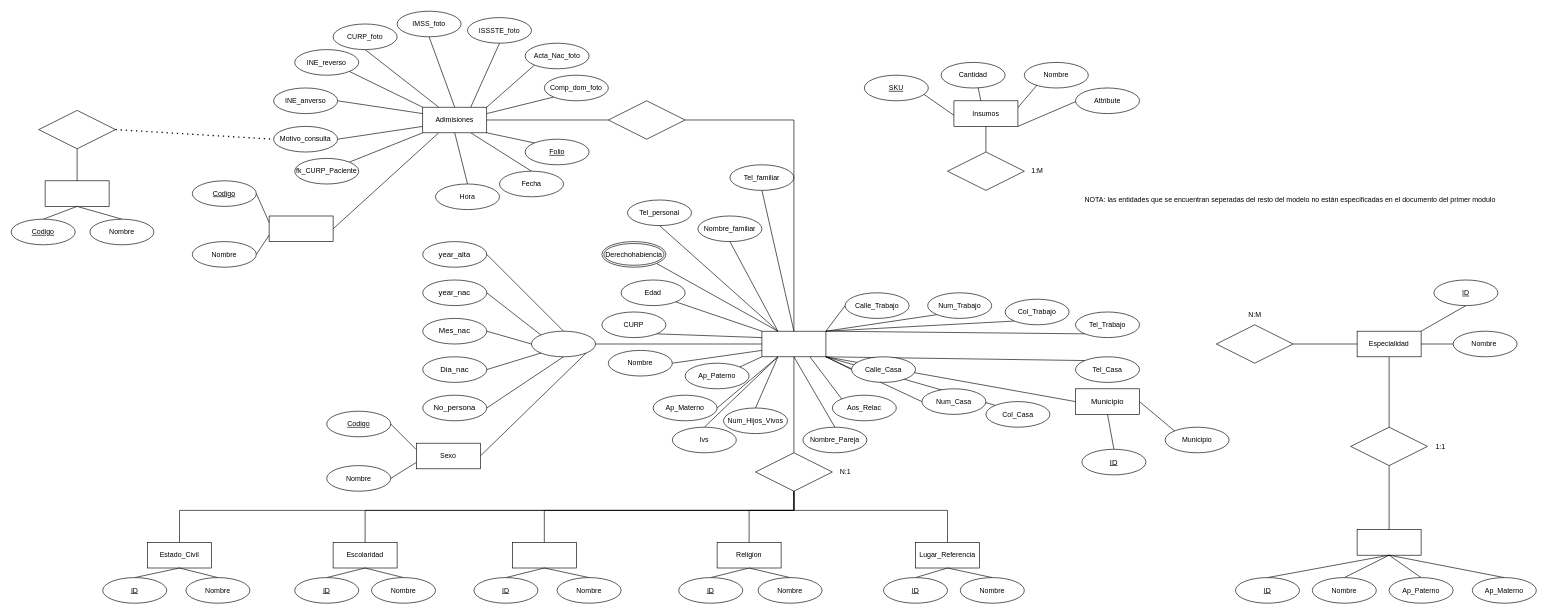
The diagram is 1548 pixels wide and 614 high, and some of its shapes have lost their labels. Each missing label, with the centre of its shape:
Atiende: point (1389, 446)
Consume: point (985, 170)
Doctores: point (1388, 542)
Enfermedades: point (76, 193)
Genera: point (646, 119)
Num_expediente: point (563, 344)
Ocupacion: point (544, 555)
Pacientes: point (793, 344)
Padece: point (77, 129)
Solicita: point (1254, 343)
tiene: point (793, 471)
Turno: point (300, 228)
